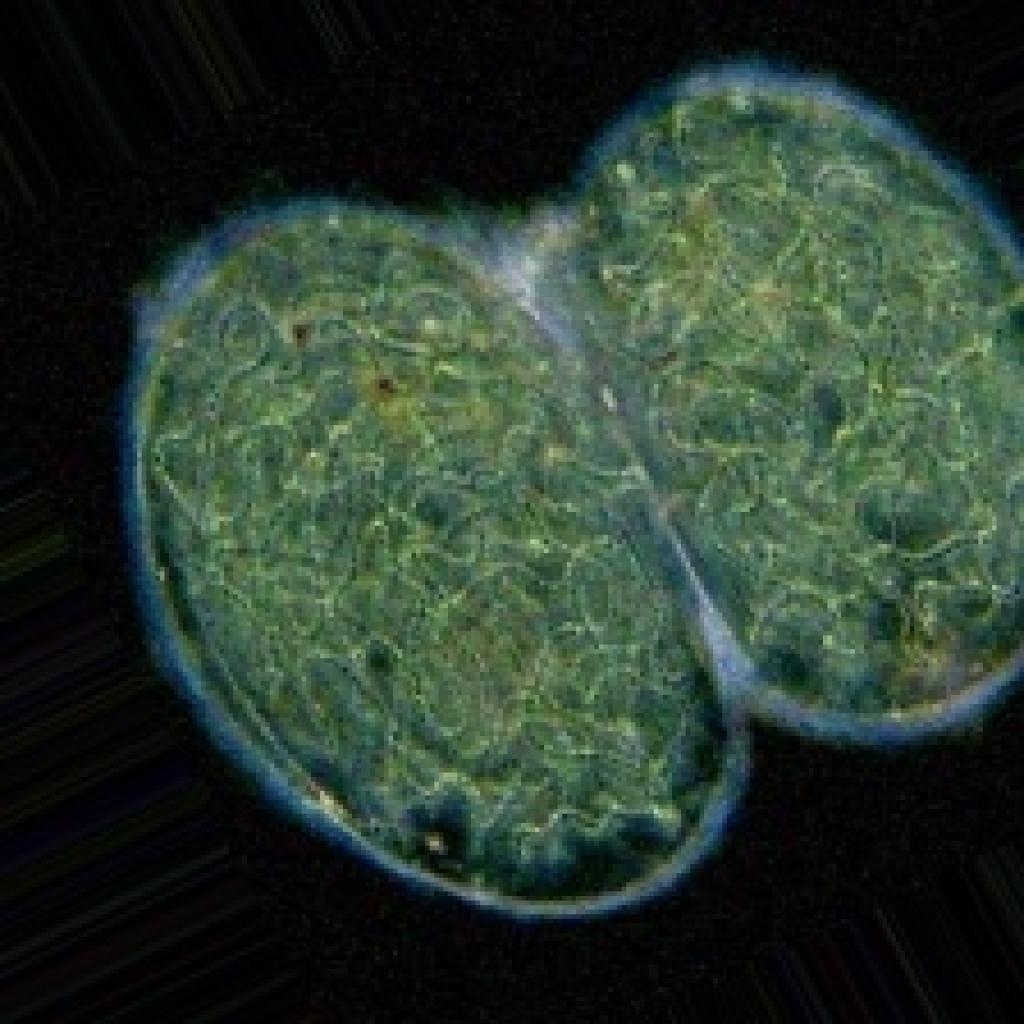Sphericalbacteria: (114, 55, 1020, 919)
